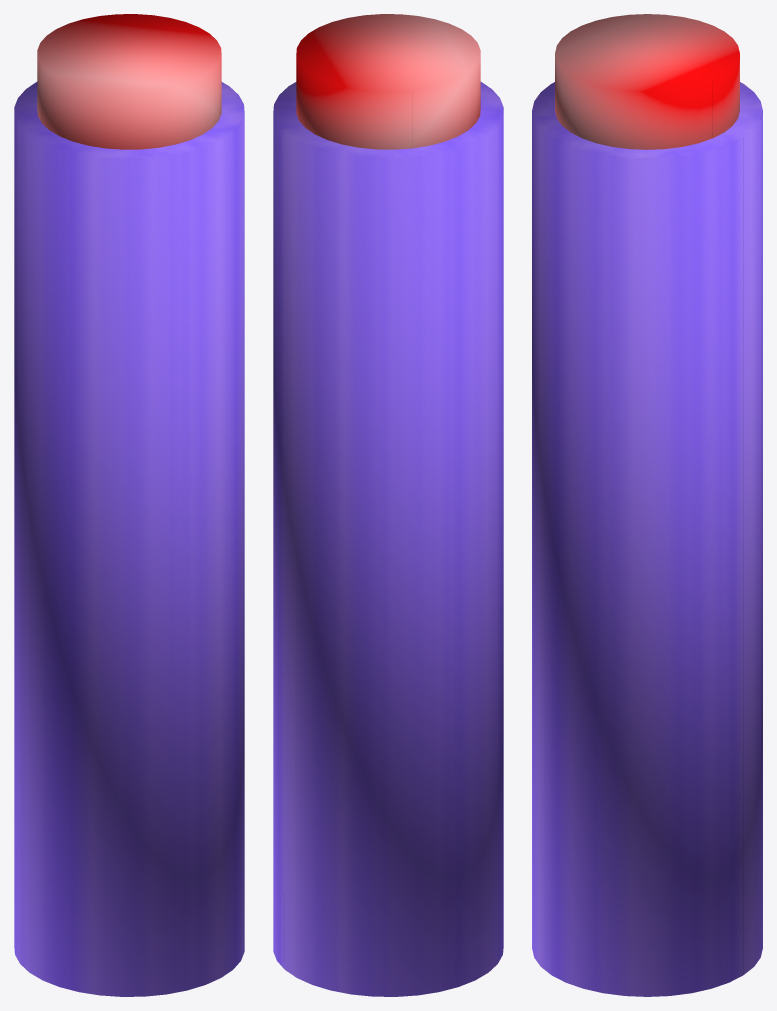
File: PressButton.fbx
3 views of the same model, side by side, from view 1: azimuth 30°, elevation 25°; view 2: azimuth 150°, elevation 25°; view 3: azimuth 270°, elevation 25° (orthographic).
Parts seen in each view (by area): view 1: Cylinder, Cylinder.001; view 2: Cylinder, Cylinder.001; view 3: Cylinder, Cylinder.001.
Part boxes in pixels (x1=…): Cylinder: x1=14, y1=82, x2=244, y2=996; Cylinder.001: x1=37, y1=14, x2=221, y2=149; Cylinder: x1=273, y1=82, x2=503, y2=996; Cylinder.001: x1=296, y1=14, x2=480, y2=149; Cylinder: x1=532, y1=82, x2=762, y2=996; Cylinder.001: x1=555, y1=14, x2=739, y2=149.
Bounding box in the file's own units: 100 × 428 × 100.
